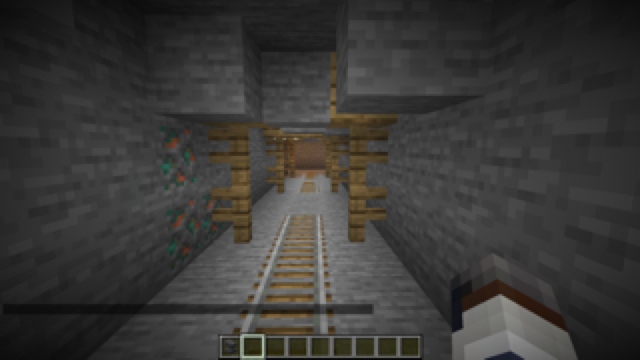copper: (154, 119, 227, 272)
